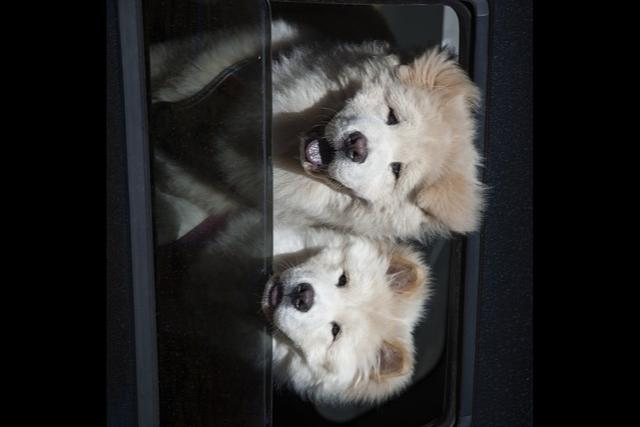Non_Gorille: (175, 0, 529, 427)
